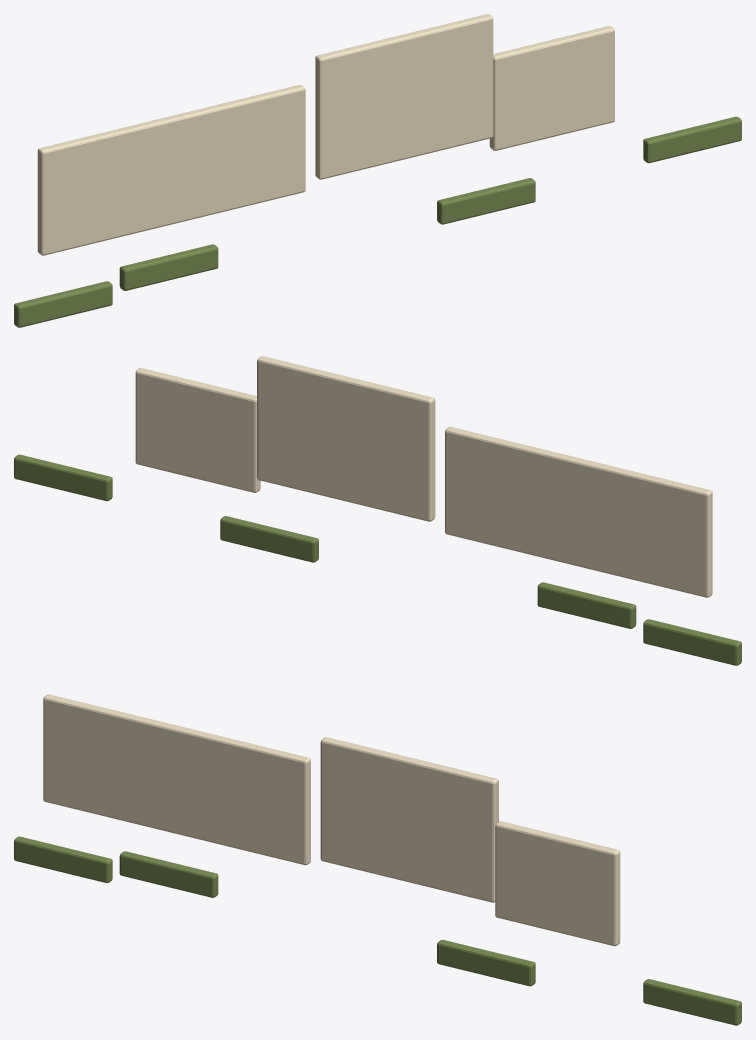
Rendered from overlay_lime_repair.glb.
3 views of the same model, one above another, from view 1: azimuth 30°, elevation 25°; view 2: azimuth 150°, elevation 25°; view 3: azimuth 330°, elevation 25° (orthographic).
Parts seen in each view (by area): view 1: overlay_lime_repair__weathering; view 2: overlay_lime_repair__weathering; view 3: overlay_lime_repair__weathering.
Boxes of the visible parts, x1,y1,x2,y2 form: overlay_lime_repair__weathering: (14, 14, 741, 327); overlay_lime_repair__weathering: (14, 356, 741, 665); overlay_lime_repair__weathering: (14, 694, 741, 1025).
Size of the model in its own units: 1.37 by 0.35 by 0.027.
